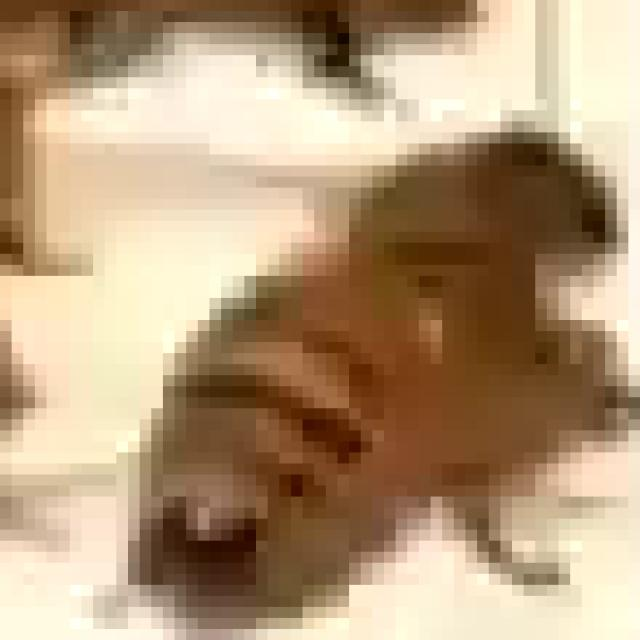honeybee: (147, 143, 610, 594)
